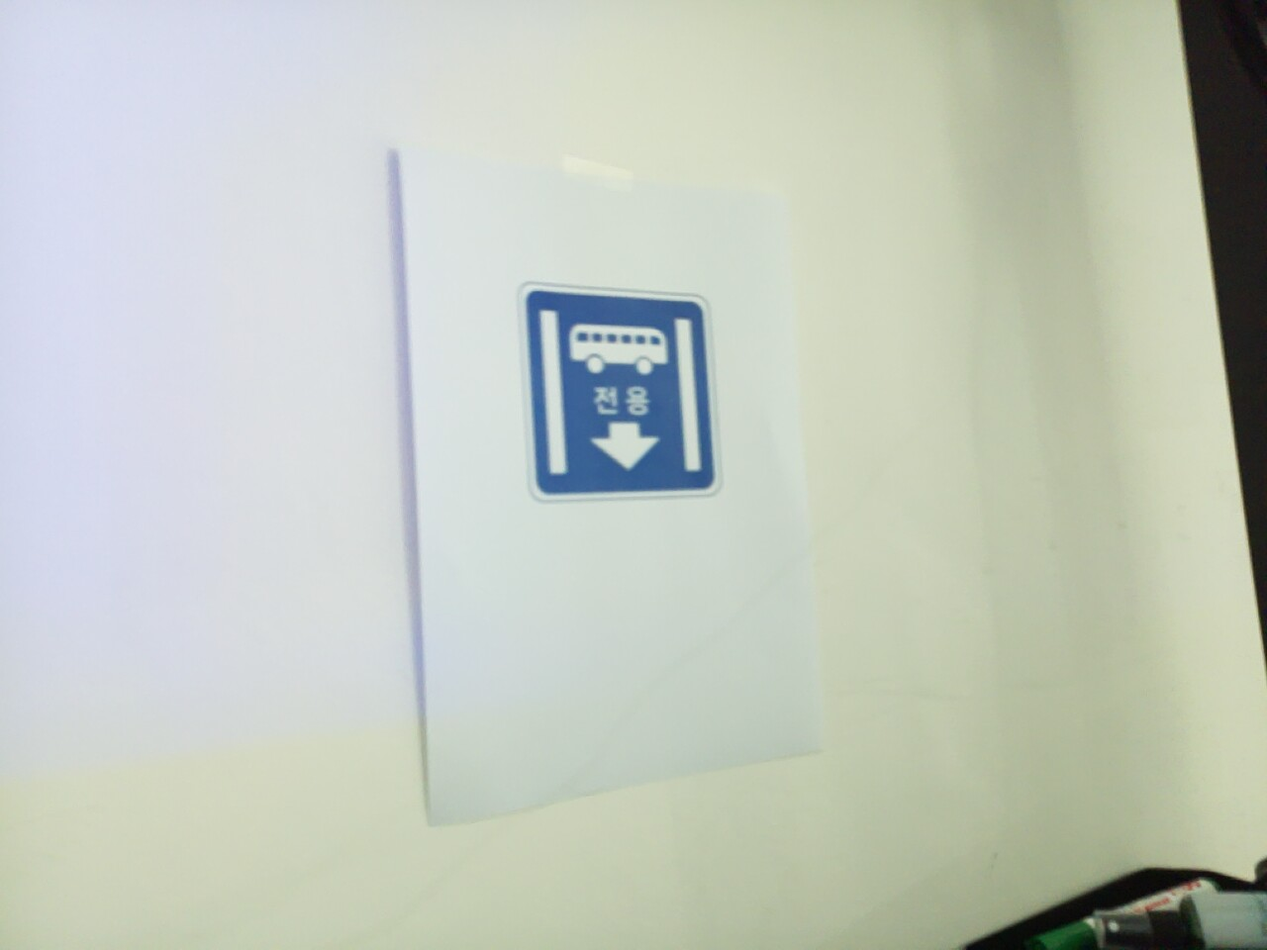bus_only_lane: (519, 282, 722, 503)
